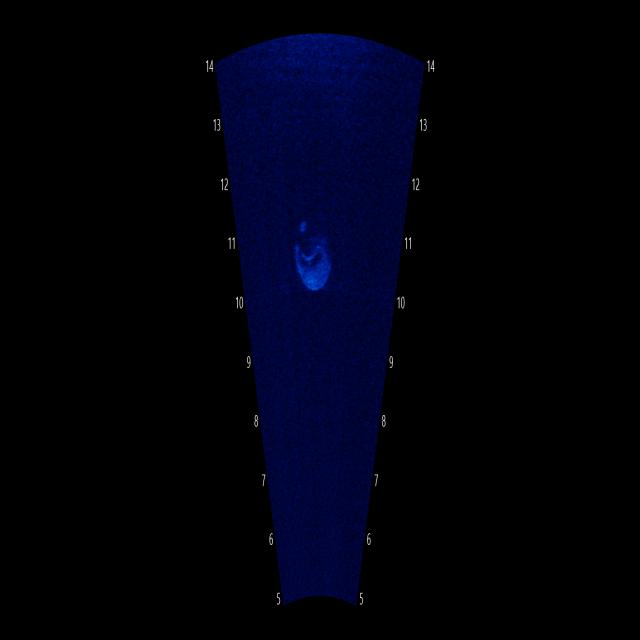circle: (289, 190, 340, 304)
